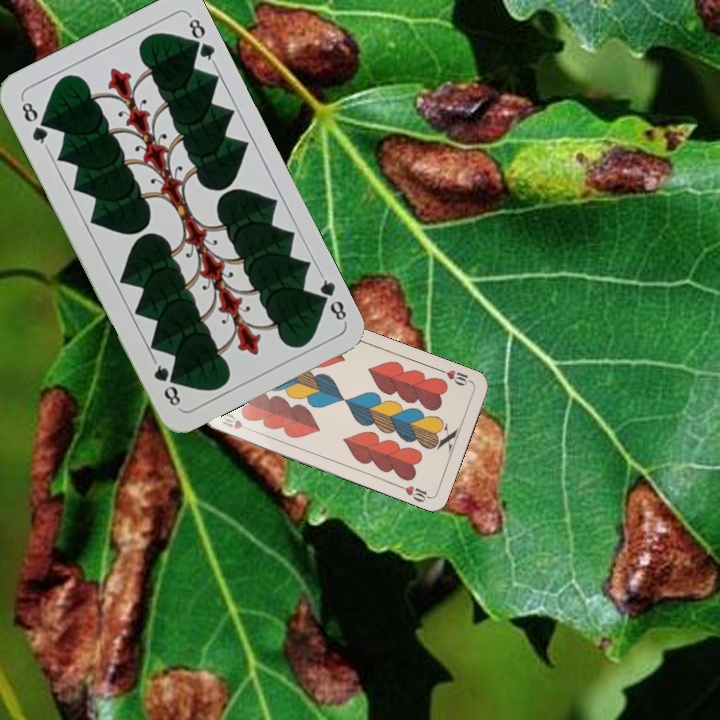G8: (311, 270, 350, 326), (17, 95, 51, 150)
H10: (218, 409, 255, 434), (435, 365, 474, 388)
